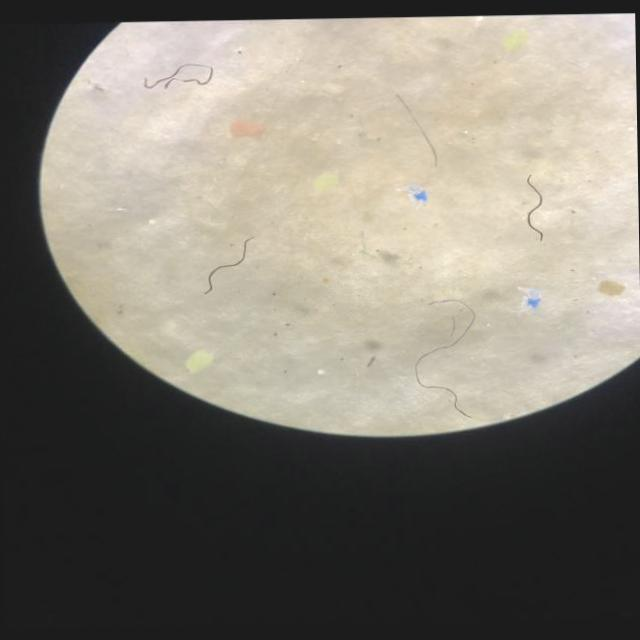fiber: (414, 301, 474, 418), (396, 96, 435, 166), (204, 238, 250, 293), (143, 63, 211, 89), (527, 176, 542, 240)
film: (407, 187, 425, 202), (524, 291, 539, 309)
fragment: (230, 120, 263, 138), (185, 351, 212, 370), (503, 30, 526, 50), (314, 173, 337, 192), (598, 280, 623, 296)
pellet: (317, 369, 323, 374), (149, 220, 153, 224)
